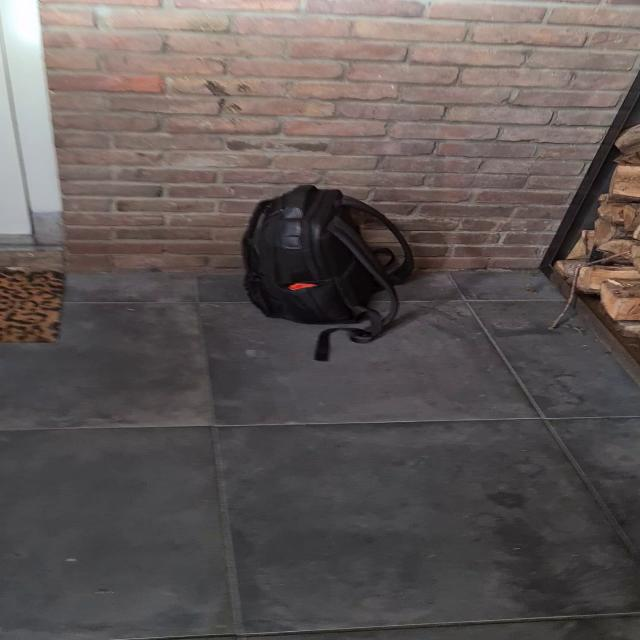backpack: (231, 180, 416, 338)
